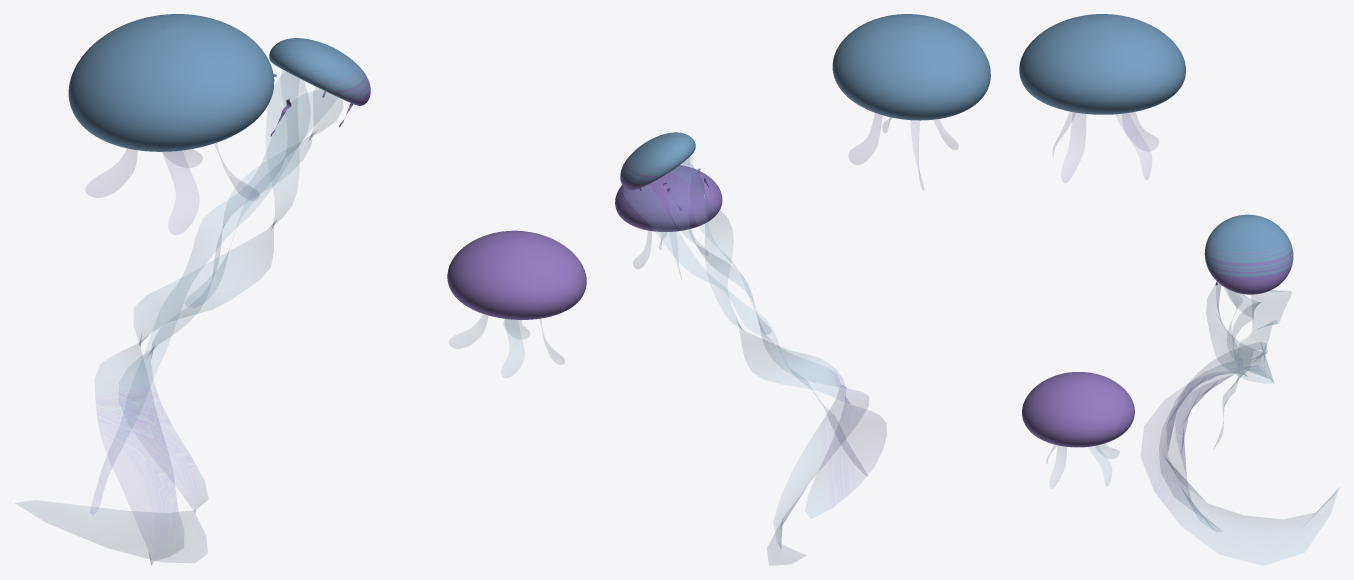
The model's file is jellyfish.glb.
3 views of the same model, side by side, from view 1: azimuth 30°, elevation 25°; view 2: azimuth 150°, elevation 25°; view 3: azimuth 270°, elevation 25° (orthographic). The views are drawn at different scales.
Visible parts, largest first — view 1: ベジエカーブ.012; view 2: ベジエカーブ.012; view 3: ベジエカーブ.012.
Boxes of the visible parts, x1,y1,x2,y2 form: ベジエカーブ.012: [15, 14, 586, 565]; ベジエカーブ.012: [615, 14, 990, 565]; ベジエカーブ.012: [1019, 14, 1338, 565].
Size of the model in its own units: 3.13 by 3.92 by 2.24.
2 materials, 2 textured.
